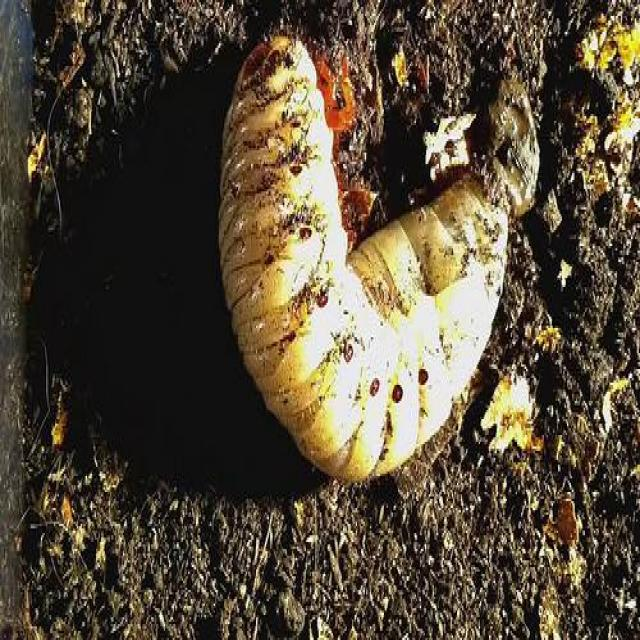Grub-Adult-: (203, 20, 540, 491)
